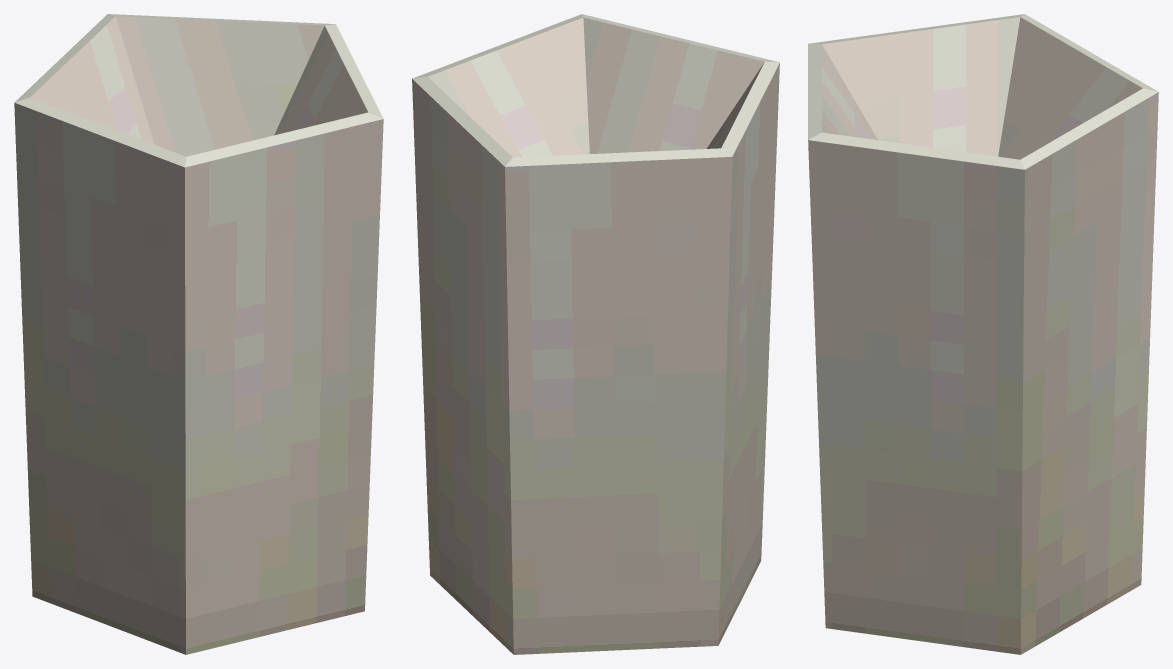
Rendered from 09_glass.glb.
3 views of the same model, side by side, from view 1: azimuth 30°, elevation 25°; view 2: azimuth 150°, elevation 25°; view 3: azimuth 270°, elevation 25° (orthographic).
Visible parts, largest first — view 1: glass; view 2: glass; view 3: glass.
Part boxes in pixels (<box>): glass: <box>14,14,383,654</box>; glass: <box>412,14,779,654</box>; glass: <box>808,14,1158,654</box>.
Size of the model in its own units: 0.1116 by 0.1658 by 0.1062.
1 material, 1 textured.
